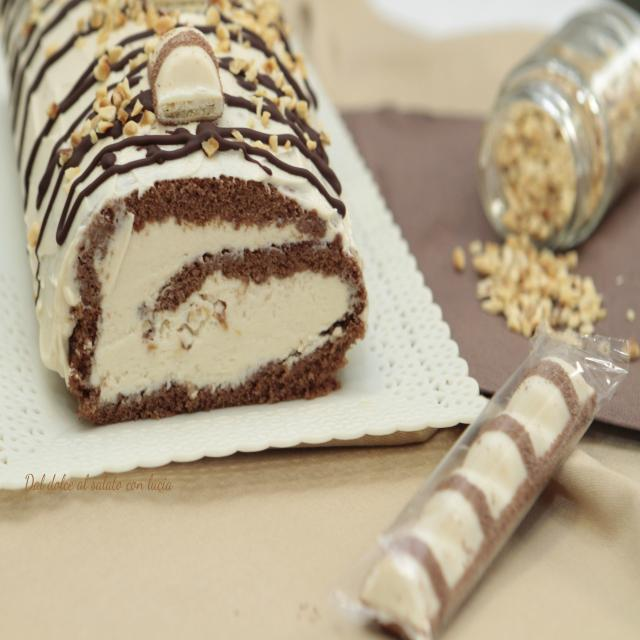Chocolate bar packaged: (354, 350, 599, 640), (145, 24, 229, 124)
